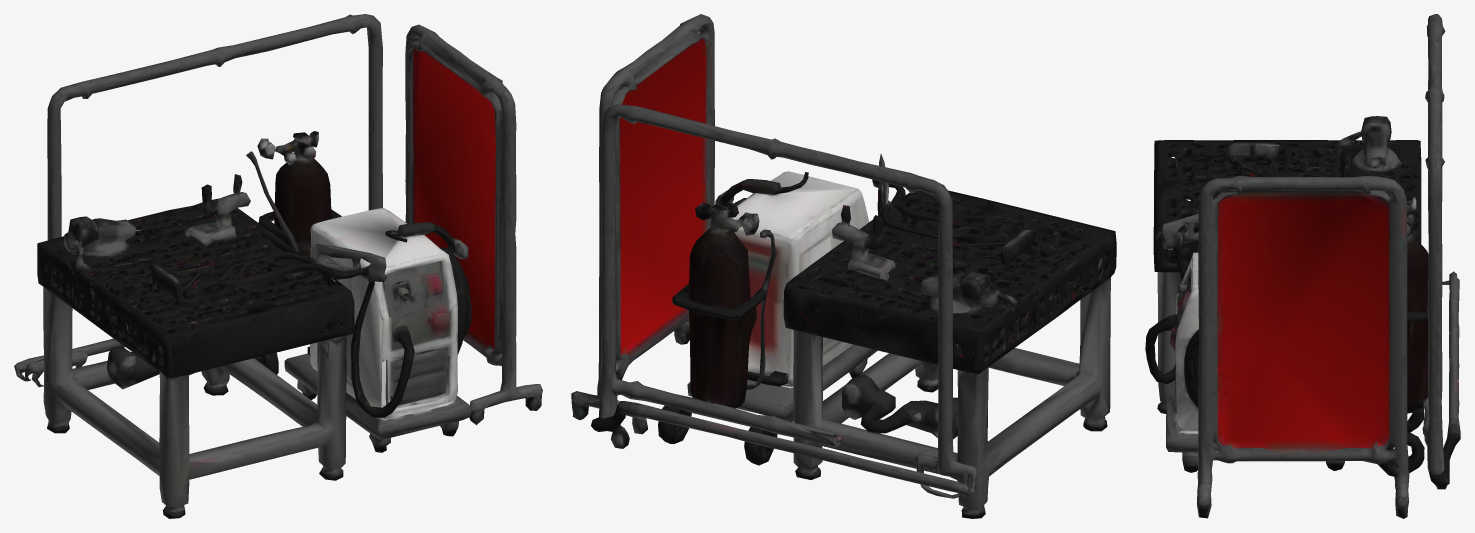
The model's file is welding_station.glb.
3 renders of one model, left to right at view 1: azimuth 30°, elevation 25°; view 2: azimuth 150°, elevation 25°; view 3: azimuth 270°, elevation 25°, orthographic. The views are drawn at different scales.
Parts seen in each view (by area): view 1: geometry_0; view 2: geometry_0; view 3: geometry_0.
Boxes of the visible parts, bbox=[...] form: geometry_0: bbox=[14, 14, 542, 518]; geometry_0: bbox=[571, 14, 1116, 518]; geometry_0: bbox=[1145, 14, 1460, 518].
Size of the model in its own units: 0.9945 by 0.7732 by 0.6673.
1 material, 1 textured.
